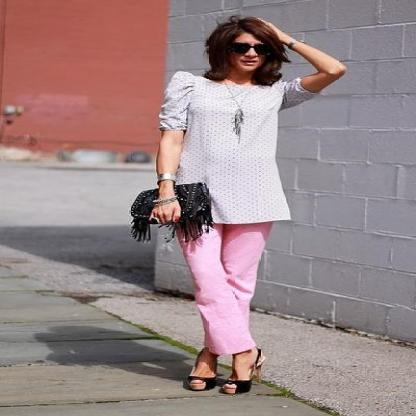bag: (130, 181, 213, 240)
dress: (159, 72, 311, 224)
pants: (176, 221, 272, 354)
shoe: (179, 347, 270, 394)
sunglass: (237, 31, 283, 58)
